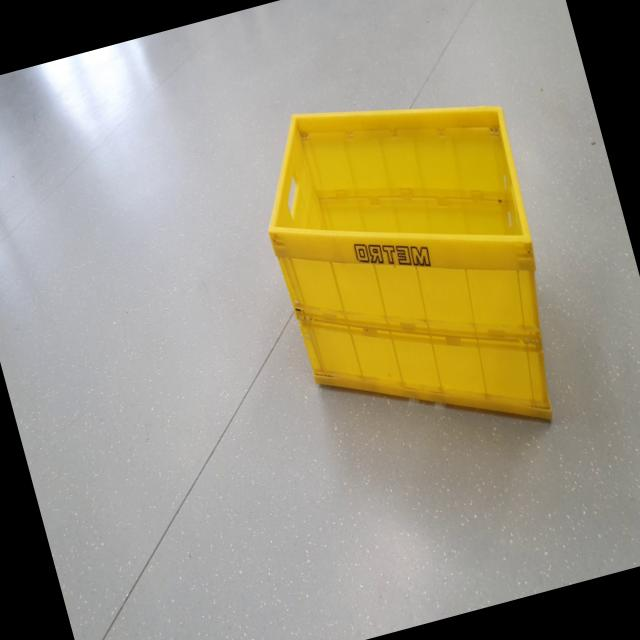box: (218, 34, 606, 488)
